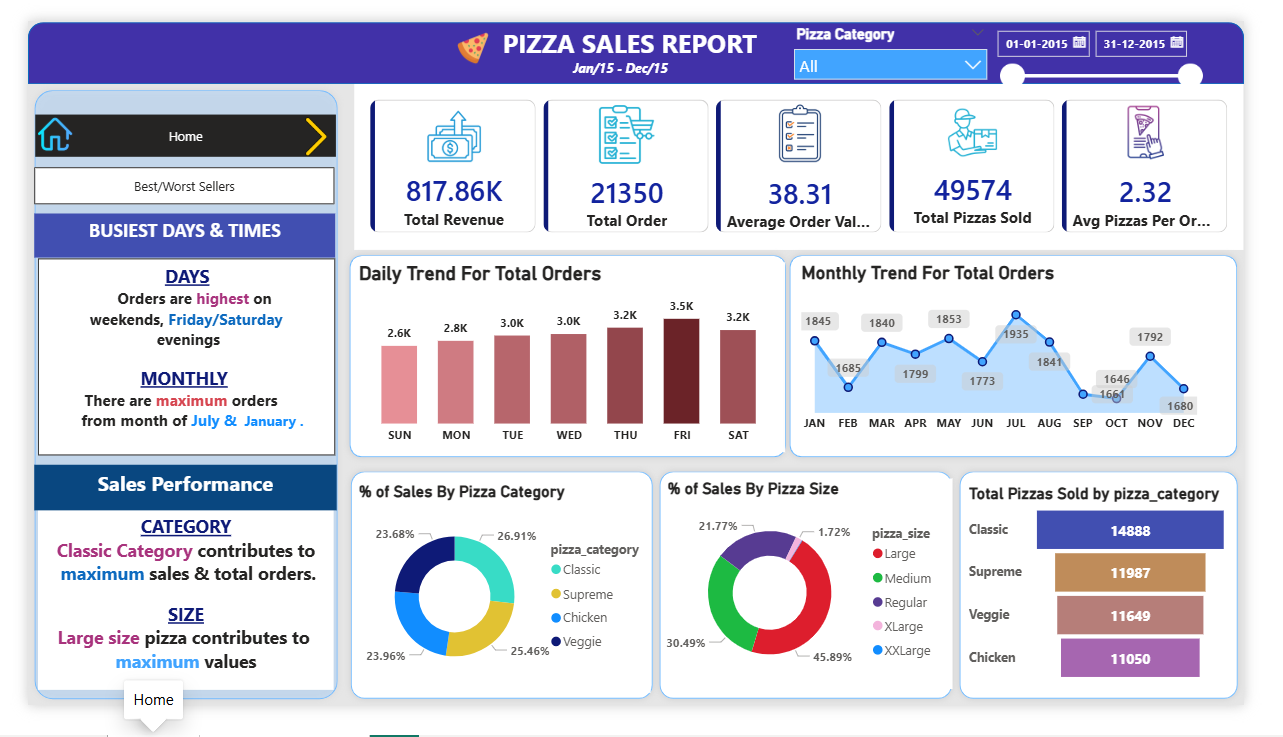

The page's visual inventory and layout, read from the dashboard file:
{"tool":"powerbi","page":{"name":"Home","canvas":[1280,720],"ordinal":0},"visuals":[{"type":"shape","box":[0,65.1,333,655.1],"z":0},{"type":"cardVisual","fields":{"Data":["pizza_sales.Total Revenue","pizza_sales.Total Order","pizza_sales.Average Order Value","pizza_sales.Total Pizzas Sold","pizza_sales.Avg Pizzas Per Order"]},"box":[343.8,65.1,936.2,174.9],"z":1000},{"type":"shape","box":[0,1.7,1280,65],"z":2000},{"type":"textbox","box":[495,0,313.3,45],"z":3000},{"type":"textbox","box":[568.3,35,123.3,30],"z":4000},{"type":"image","box":[413.3,11.7,110,33.3],"z":5000},{"type":"shape","box":[331.7,240,473.3,226.7],"z":6000},{"type":"columnChart","title":"Daily Trend For Total Orders","fields":{"Y":["pizza_sales.Total Order"],"Category":["pizza_sales.Order Day"]},"box":[343.3,253.3,453.3,200],"z":7000},{"type":"shape","box":[795,240.1,485,226.8],"z":8000},{"type":"areaChart","title":"Monthly Trend For Total Orders","fields":{"Category":["pizza_sales.Order Month"],"Y":["pizza_sales.Total Order"]},"box":[808.9,253.3,426.7,187.8],"z":9000},{"type":"shape","box":[333.3,466.7,331.7,253.3],"z":10000},{"type":"shape","box":[973.3,466.7,306.7,253.3],"z":11000},{"type":"shape","box":[658.3,466.7,321.7,253.3],"z":12000},{"type":"donutChart","title":"% of Sales By Pizza Category","fields":{"Category":["pizza_sales.pizza_category"],"Y":["pizza_sales.Total Revenue"]},"box":[343.3,485,311.7,221.7],"z":13000},{"type":"donutChart","title":"% of Sales By Pizza Size","fields":{"Category":["pizza_sales.pizza_size"],"Y":["pizza_sales.Total Revenue"]},"box":[668.3,481.7,305,221.7],"z":14000},{"type":"funnel","fields":{"Category":["pizza_sales.pizza_category"],"Y":["pizza_sales.Total Pizzas Sold"]},"box":[985,486.7,283.3,213.3],"z":15000},{"type":"textbox","box":[6.9,203.1,317,46.7],"z":16000},{"type":"textbox","box":[10.9,249.7,312.5,207.5],"z":17000},{"type":"textbox","box":[11,514.6,311.5,189.4],"z":18000},{"type":"textbox","box":[6.9,466.6,318.4,48],"z":19000},{"type":"slicer","fields":{"Values":["pizza_sales.pizza_category"]},"box":[796.7,0,223.3,65],"z":20000},{"type":"slicer","fields":{"Values":["pizza_sales.order_date"]},"box":[1008.3,0,236.7,81.7],"z":21000},{"type":"pageNavigator","box":[7.2,98.9,316.1,44.6],"z":22000},{"type":"pageNavigator","box":[6.9,153.7,317,39.8],"z":23000},{"type":"image","box":[275.1,101.3,56.7,41],"z":24000},{"type":"image","box":[10.9,98.9,36.2,41],"z":25000}]}

Visuals, with their boxes in screenshot pixels (x1, y1, x2, y2), scaled from the page's 1280x720 canvas onto the 1283x737 screenshot:
shape: bbox=(0, 67, 334, 736)
cardVisual - pizza_sales.Total Revenue x pizza_sales.Total Order: bbox=(345, 67, 1282, 246)
shape: bbox=(0, 2, 1282, 68)
textbox: bbox=(496, 0, 810, 46)
textbox: bbox=(570, 36, 693, 67)
image: bbox=(414, 12, 525, 46)
shape: bbox=(332, 246, 807, 478)
"Daily Trend For Total Orders" columnChart: bbox=(344, 259, 798, 464)
shape: bbox=(797, 246, 1282, 478)
"Monthly Trend For Total Orders" areaChart: bbox=(811, 259, 1238, 452)
shape: bbox=(334, 478, 667, 736)
shape: bbox=(976, 478, 1282, 736)
shape: bbox=(660, 478, 982, 736)
"% of Sales By Pizza Category" donutChart: bbox=(344, 496, 657, 723)
"% of Sales By Pizza Size" donutChart: bbox=(670, 493, 976, 720)
funnel - pizza_sales.pizza_category x pizza_sales.Total Pizzas Sold: bbox=(987, 498, 1271, 717)
textbox: bbox=(7, 208, 325, 256)
textbox: bbox=(11, 256, 324, 468)
textbox: bbox=(11, 527, 323, 721)
textbox: bbox=(7, 478, 326, 527)
slicer - pizza_sales.pizza_category: bbox=(799, 0, 1022, 67)
slicer - pizza_sales.order_date: bbox=(1011, 0, 1248, 84)
pageNavigator: bbox=(7, 101, 324, 147)
pageNavigator: bbox=(7, 157, 325, 198)
image: bbox=(276, 104, 333, 146)
image: bbox=(11, 101, 47, 143)
